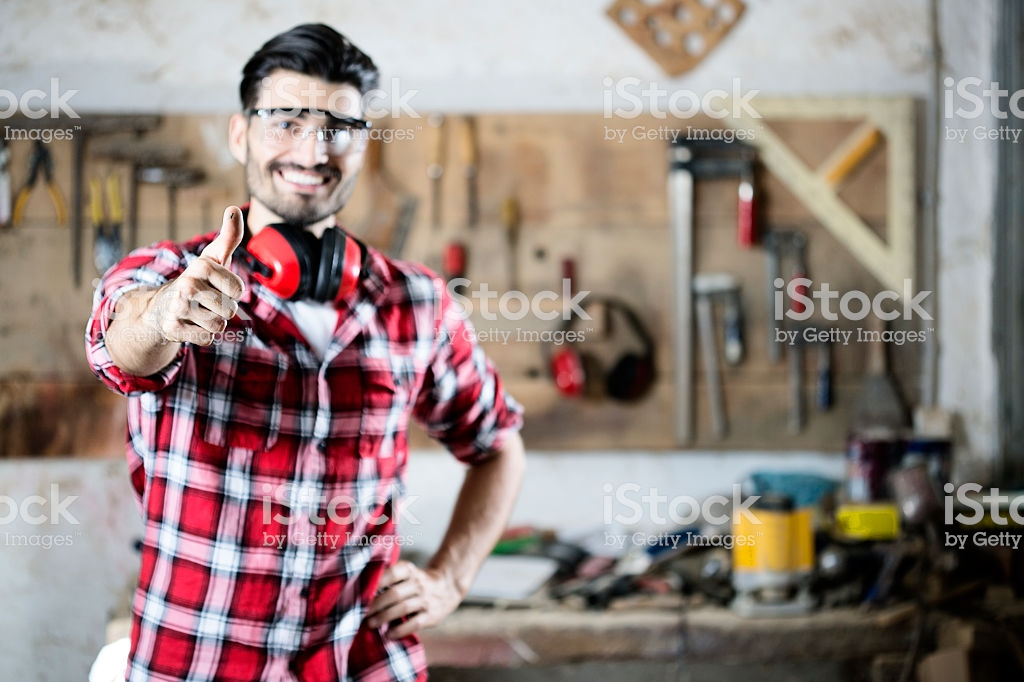thumbsup: (163, 204, 249, 349)
